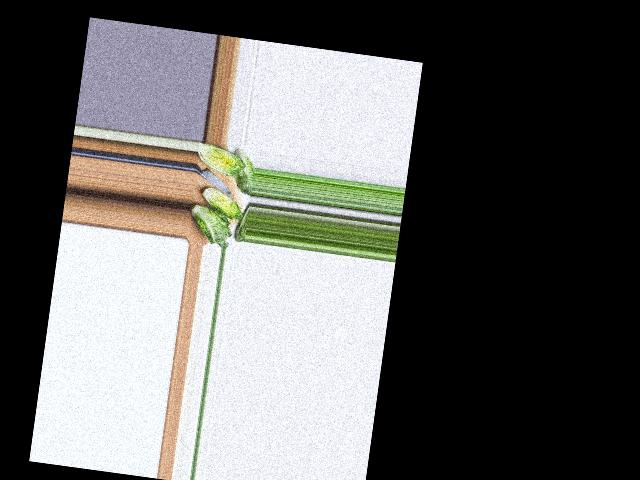lettuce: (230, 149, 254, 194)
